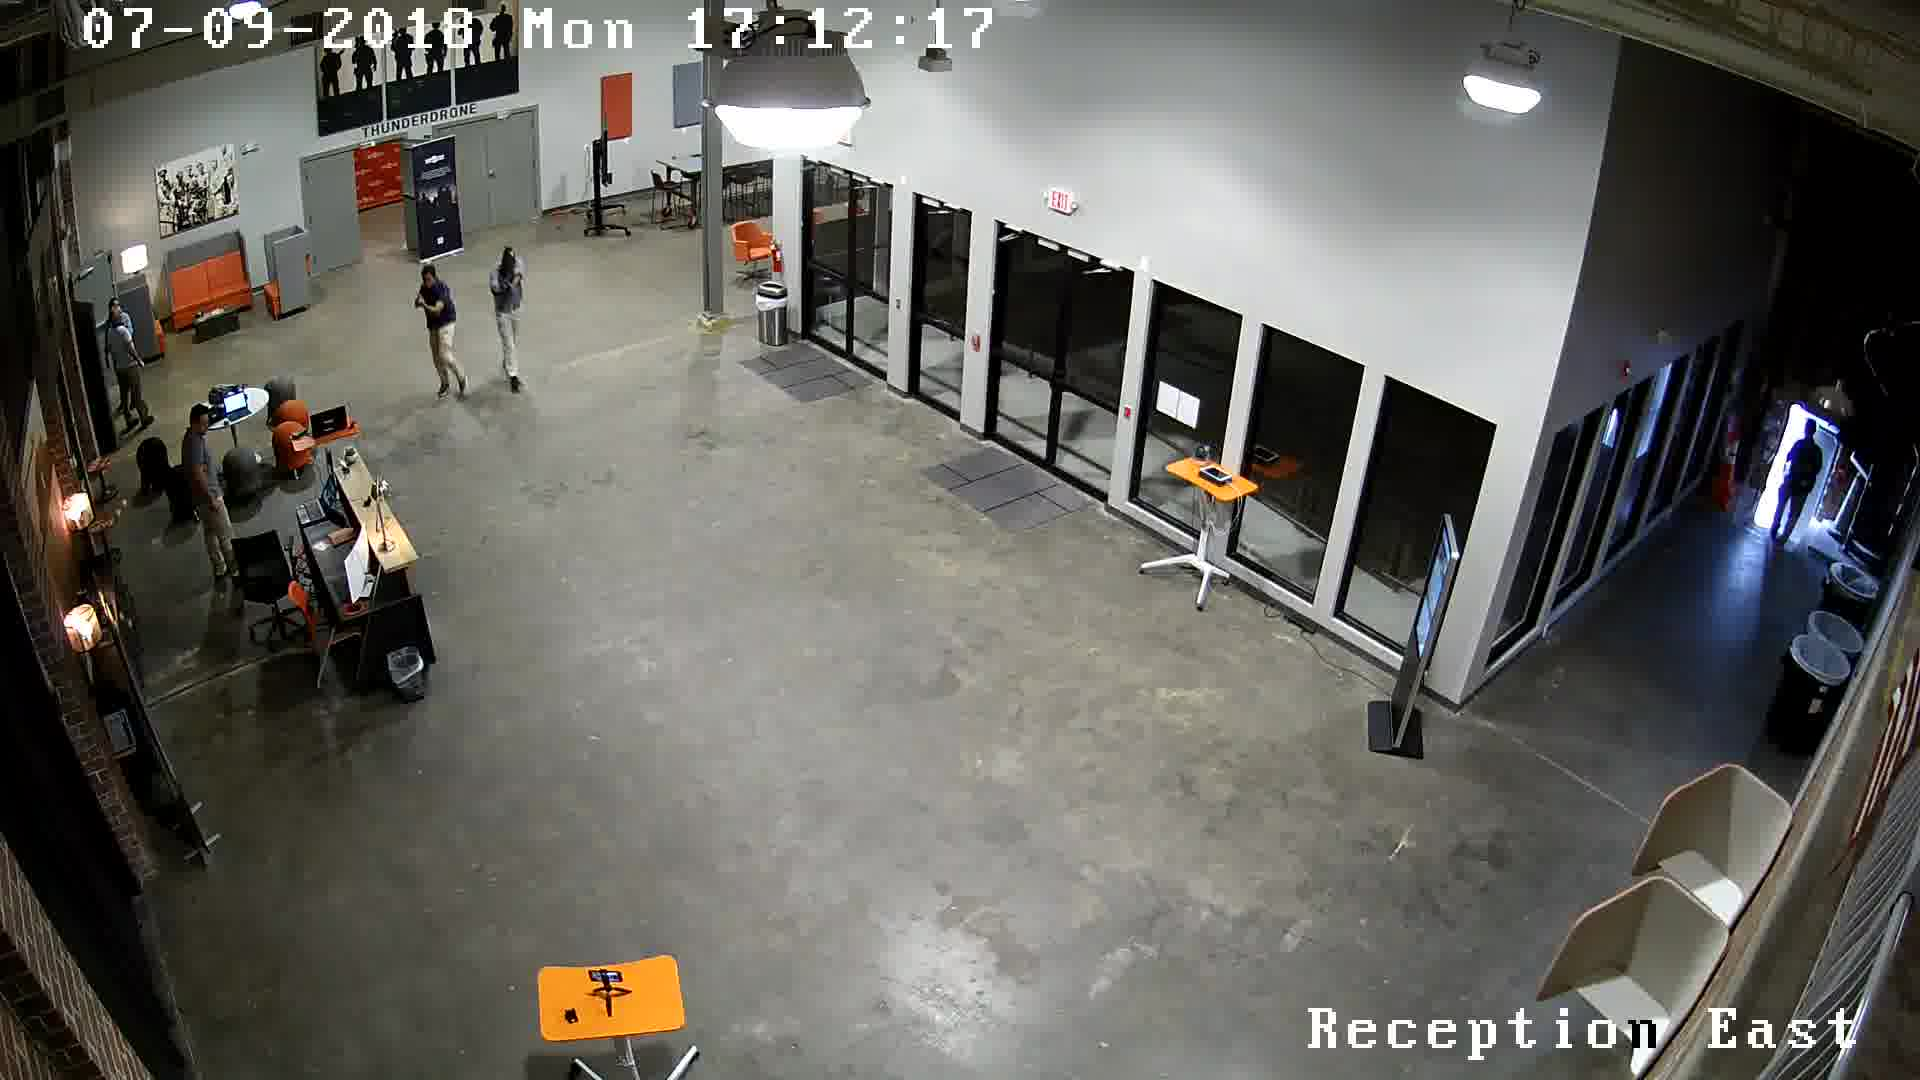pistol: (493, 272, 521, 309), (402, 289, 425, 316)
